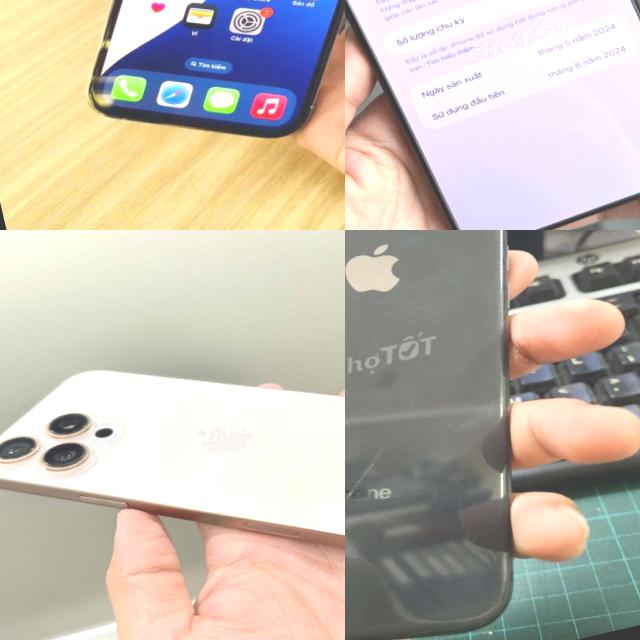gen_12_13: (6, 0, 345, 186)
gen_15: (345, 0, 640, 230)
gen_16: (0, 370, 345, 546)
gen_7_8: (345, 230, 591, 640)
scratch: (474, 470, 534, 584), (345, 435, 404, 516), (399, 592, 516, 630), (447, 274, 462, 292), (492, 287, 502, 304), (345, 410, 354, 427)
